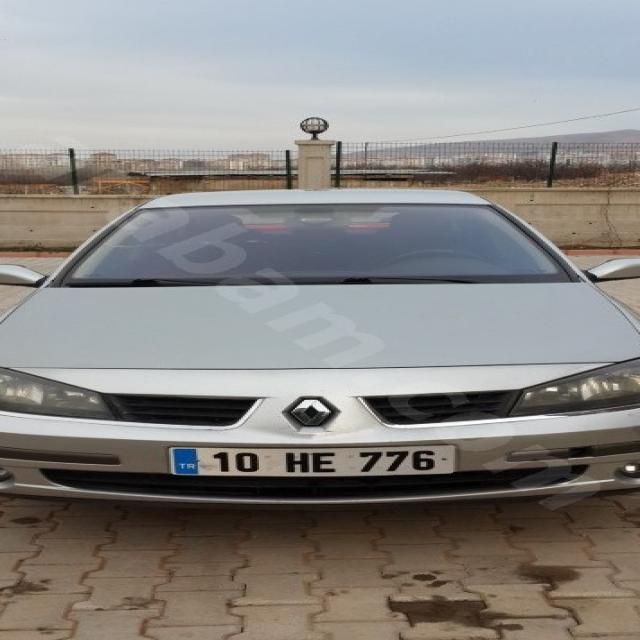license_plate: (170, 445, 456, 475)
